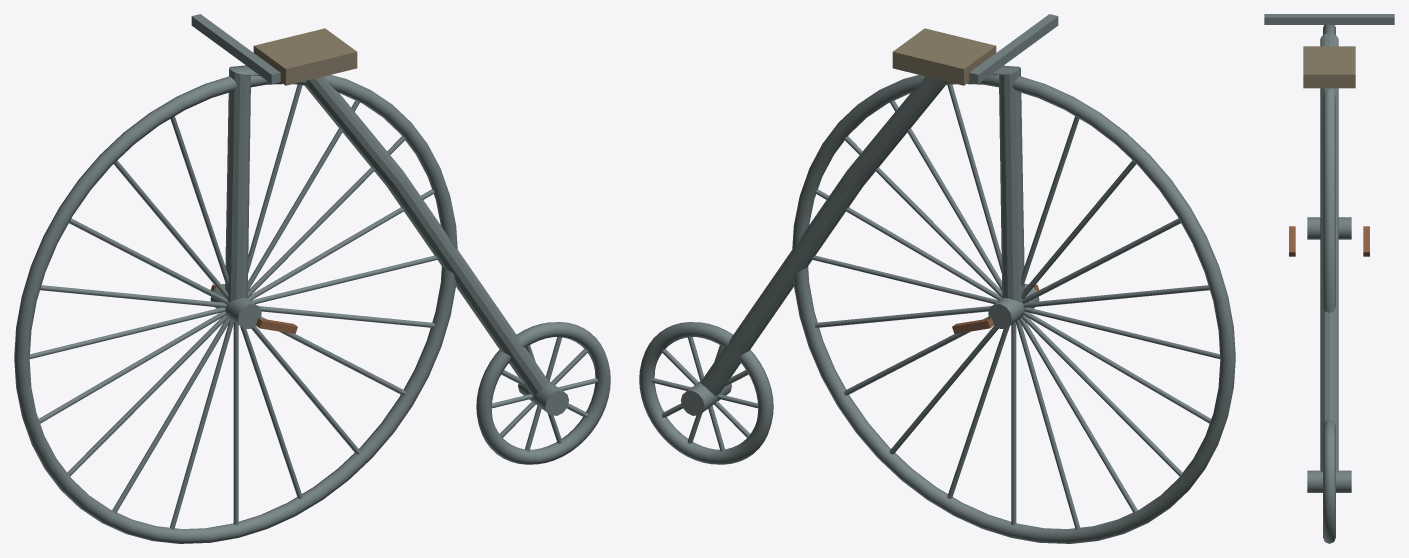
File: 121_highwheel_bicycle.glb
The picture shows the model from 3 angles, left to right: view 1: azimuth 30°, elevation 25°; view 2: azimuth 150°, elevation 25°; view 3: azimuth 270°, elevation 25°; orthographic projection. The views are drawn at different scales.
Parts seen in each view (by area): view 1: PRP-121_wheels, PRP-121_spokes, Curved_backbone, Leather_saddle, PRP-121_axles, Handlebar; view 2: PRP-121_wheels, PRP-121_spokes, Curved_backbone, Leather_saddle, PRP-121_axles, Handlebar; view 3: PRP-121_wheels, Curved_backbone, Leather_saddle, Handlebar, PRP-121_axles, PRP-121_cranks.
Part boxes in pixels (box(x1,y1,x2,y2)): PRP-121_wheels: box(14, 75, 610, 543); PRP-121_spokes: box(29, 84, 597, 529); Curved_backbone: box(225, 65, 549, 395); Leather_saddle: box(253, 28, 357, 85); PRP-121_axles: box(210, 284, 568, 415); Handlebar: box(191, 14, 280, 83); PRP-121_wheels: box(639, 75, 1235, 543); PRP-121_spokes: box(652, 84, 1220, 529); Curved_backbone: box(700, 65, 1024, 395); Leather_saddle: box(892, 28, 996, 85); PRP-121_axles: box(681, 284, 1039, 415); Handlebar: box(969, 14, 1058, 83); PRP-121_wheels: box(1323, 25, 1335, 543); Curved_backbone: box(1320, 33, 1338, 471); Leather_saddle: box(1303, 46, 1355, 88); Handlebar: box(1264, 14, 1394, 24); PRP-121_axles: box(1307, 217, 1351, 492); PRP-121_cranks: box(1289, 226, 1369, 256).
Bounding box in the file's own units: 3 × 2.38 × 0.7.
